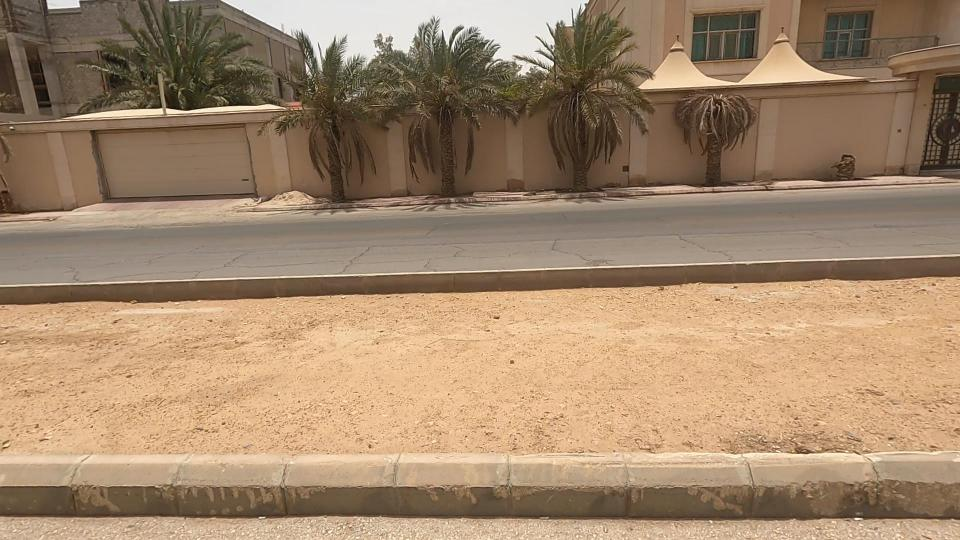CLUTTER_SIDEWALK: (0, 210, 596, 522), (351, 230, 960, 475)
